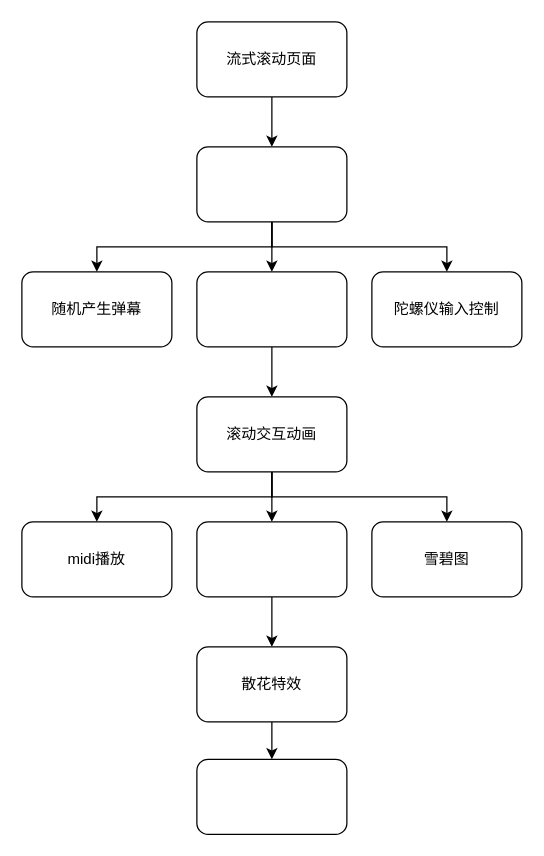
Some shapes in this 544 by 856 pixel diagram are drawn without their labels. The centre of each missing label's shape, as x and y in pixels:
"typed切换效果" goes at (271,309).
"对话框" goes at (271,559).
"页足" goes at (271,796).
"首页3D渲染" goes at (271,184).
